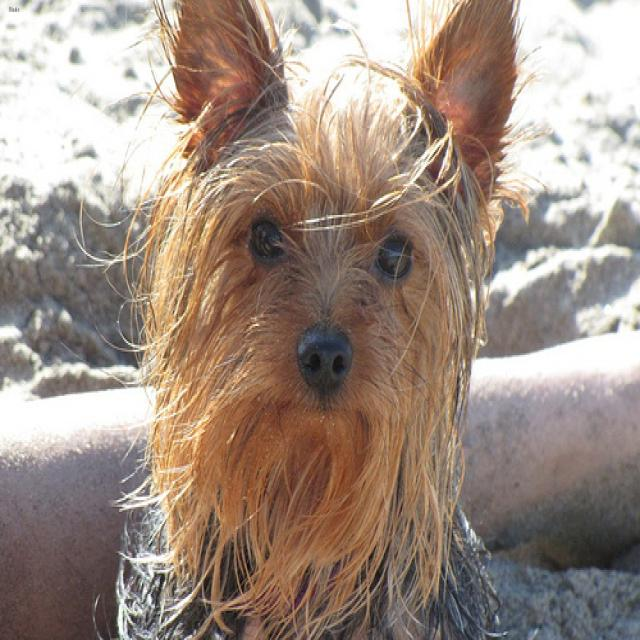dog-yorkshire_terrier: (64, 2, 554, 637)
